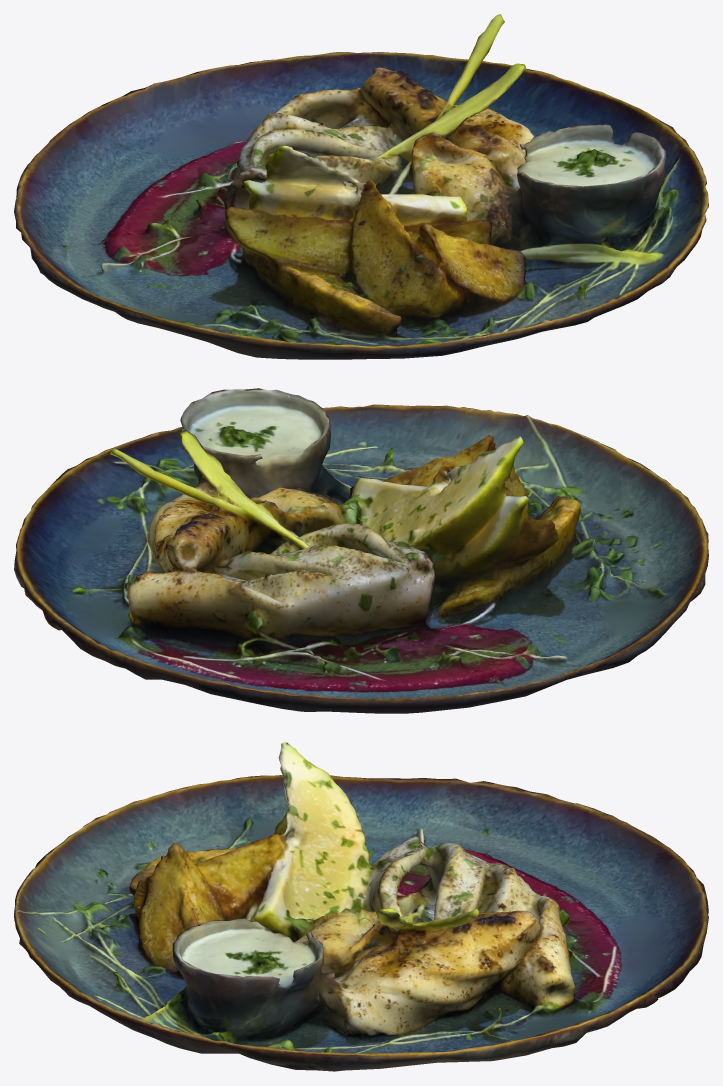
File: calamar.ar.glb
3 renders of one model, top to bottom at view 1: azimuth 30°, elevation 25°; view 2: azimuth 150°, elevation 25°; view 3: azimuth 270°, elevation 25°, orthographic.
Parts seen in each view (by area): view 1: /ObjectCapture/Geometry/Mesh; view 2: /ObjectCapture/Geometry/Mesh; view 3: /ObjectCapture/Geometry/Mesh.
Part boxes in pixels (x1,y1,x2,y2): /ObjectCapture/Geometry/Mesh: (14, 14, 708, 359); /ObjectCapture/Geometry/Mesh: (14, 388, 708, 713); /ObjectCapture/Geometry/Mesh: (14, 742, 708, 1071).
Bounding box in the file's own units: 0.2741 × 0.0712 × 0.2753.
1 material, 1 textured.
